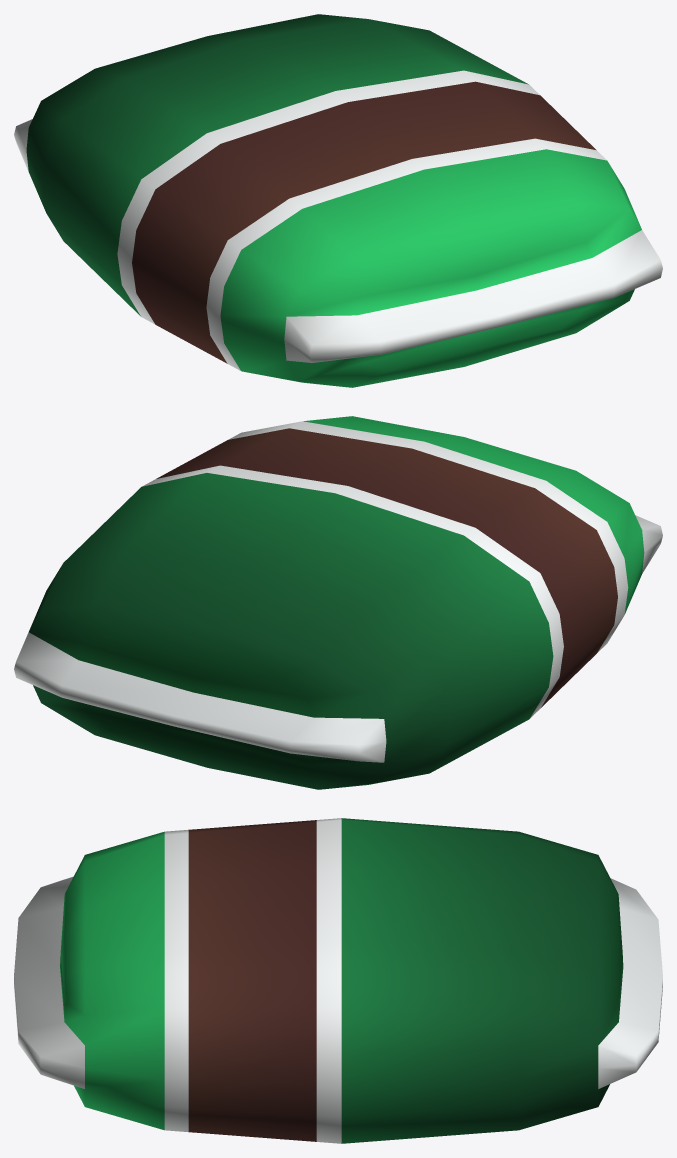
File: FertilizerPack.fbx
3 renders of one model, top to bottom at view 1: azimuth 30°, elevation 25°; view 2: azimuth 150°, elevation 25°; view 3: azimuth 270°, elevation 25°, orthographic.
Parts seen in each view (by area): view 1: FertilizerPack; view 2: FertilizerPack; view 3: FertilizerPack.
Part boxes in pixels (x1,y1,x2,y2): FertilizerPack: (14,14,662,387); FertilizerPack: (14,416,662,789); FertilizerPack: (14,818,662,1143).
Bounding box in the file's own units: 0.1975 × 0.0951 × 0.2557.
